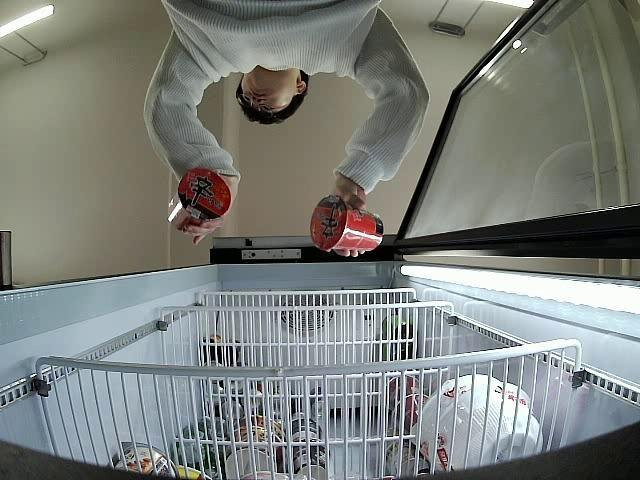02_shinRamen_S: (310, 192, 384, 253), (164, 167, 232, 232)
